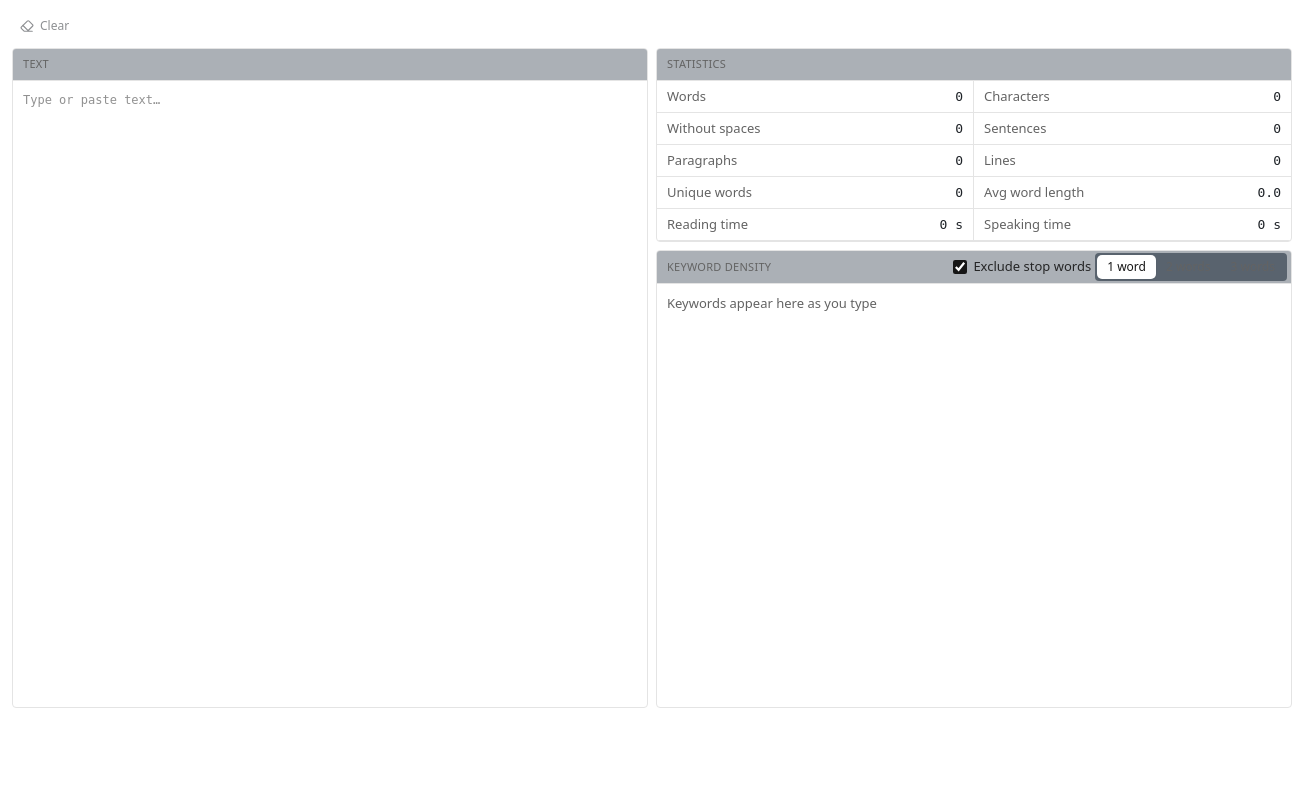
Test: updates stats and keywords as you type, and clears
Type "The cat sat. The cat ran. The end." into the text box labelled "text" at coordinates (330, 394), box [13, 81, 647, 707]
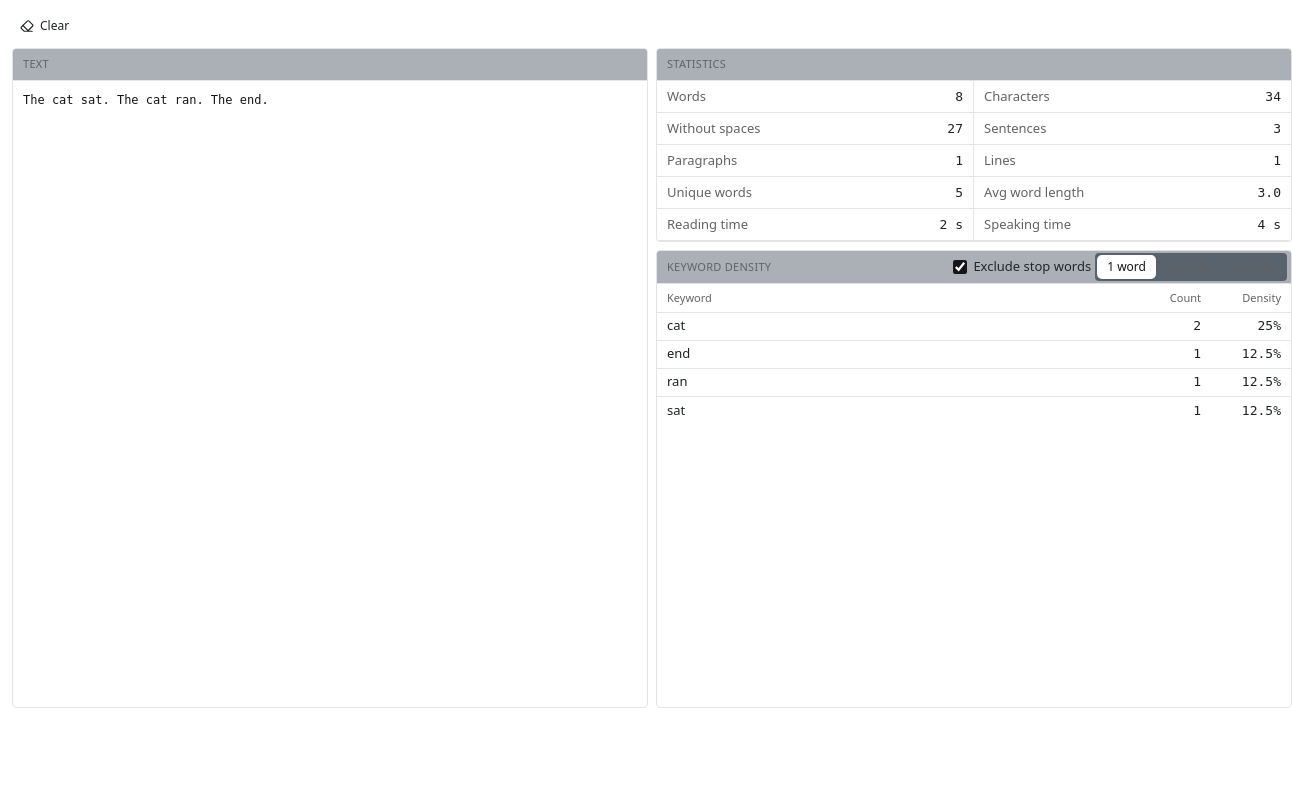
Click the checkbox labelled "Exclude stop words" at coordinates (960, 267), box [953, 260, 967, 274]
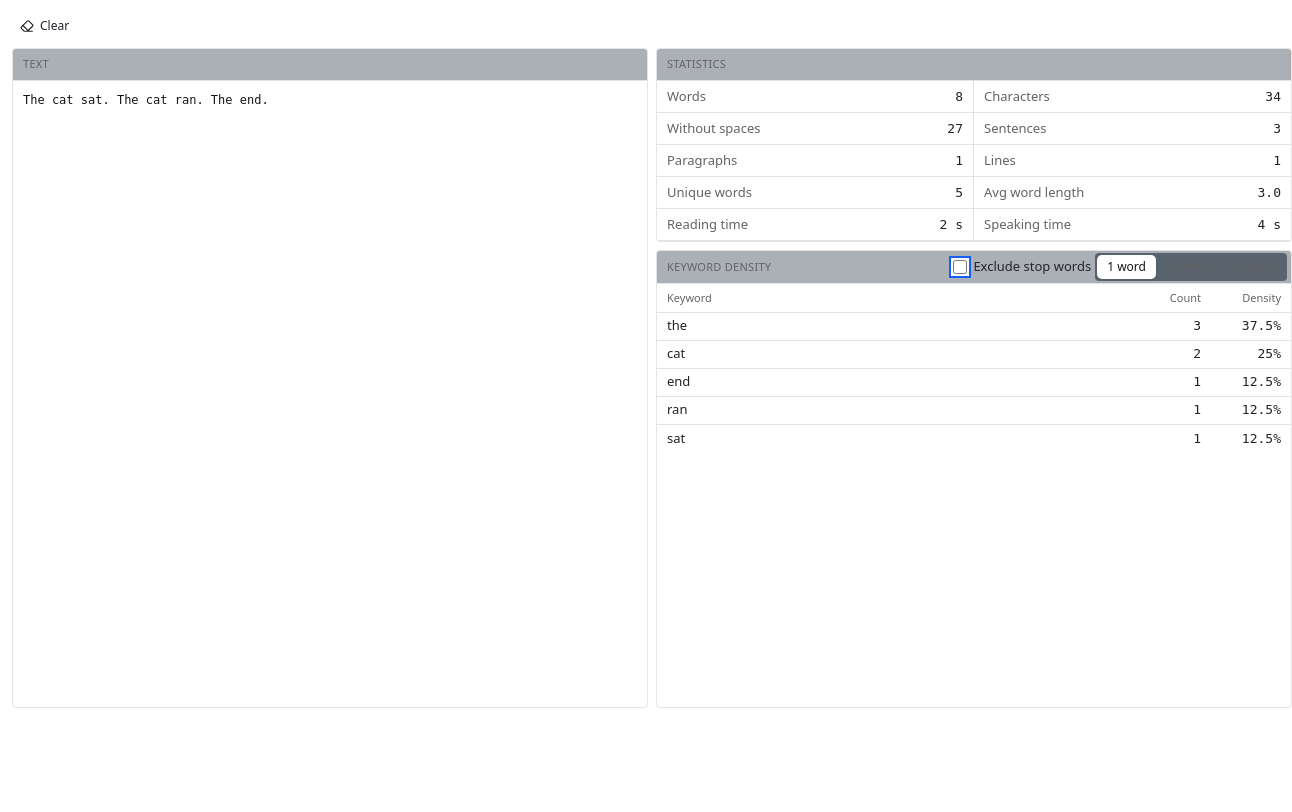
Click the radio button labelled "2 words" at coordinates (1188, 267), box [1156, 255, 1220, 279]
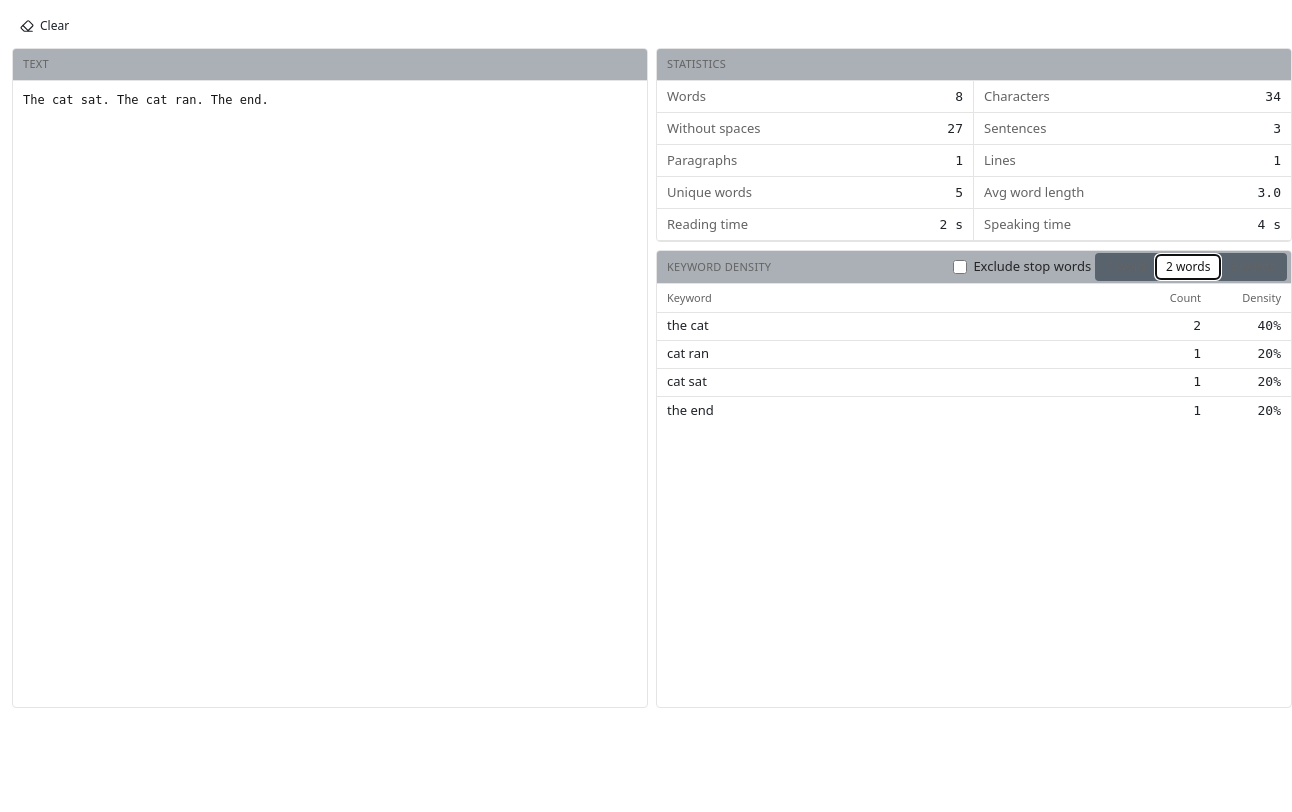
Click the button "Clear" at coordinates (45, 26), box [12, 12, 77, 40]
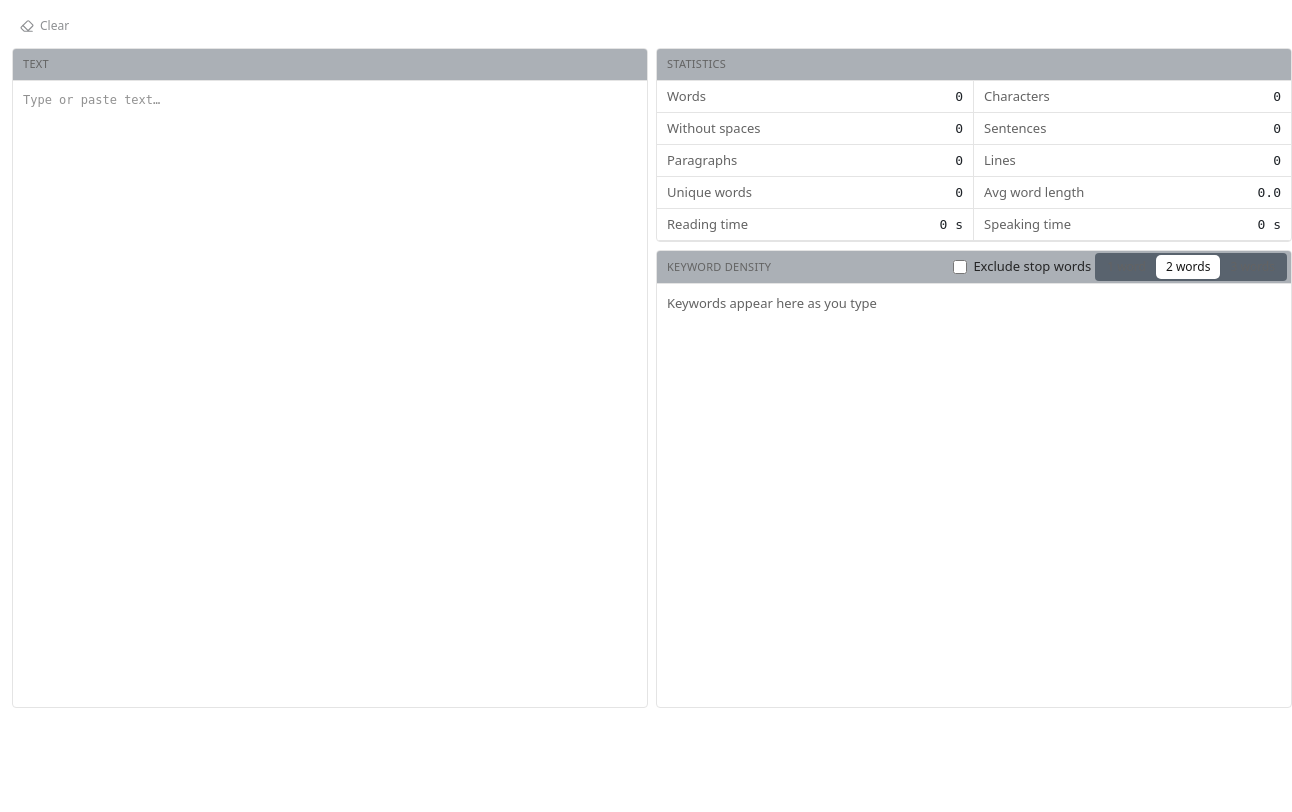
Check: the text "Keywords appear here as you type" is shown, box [667, 294, 877, 312]
